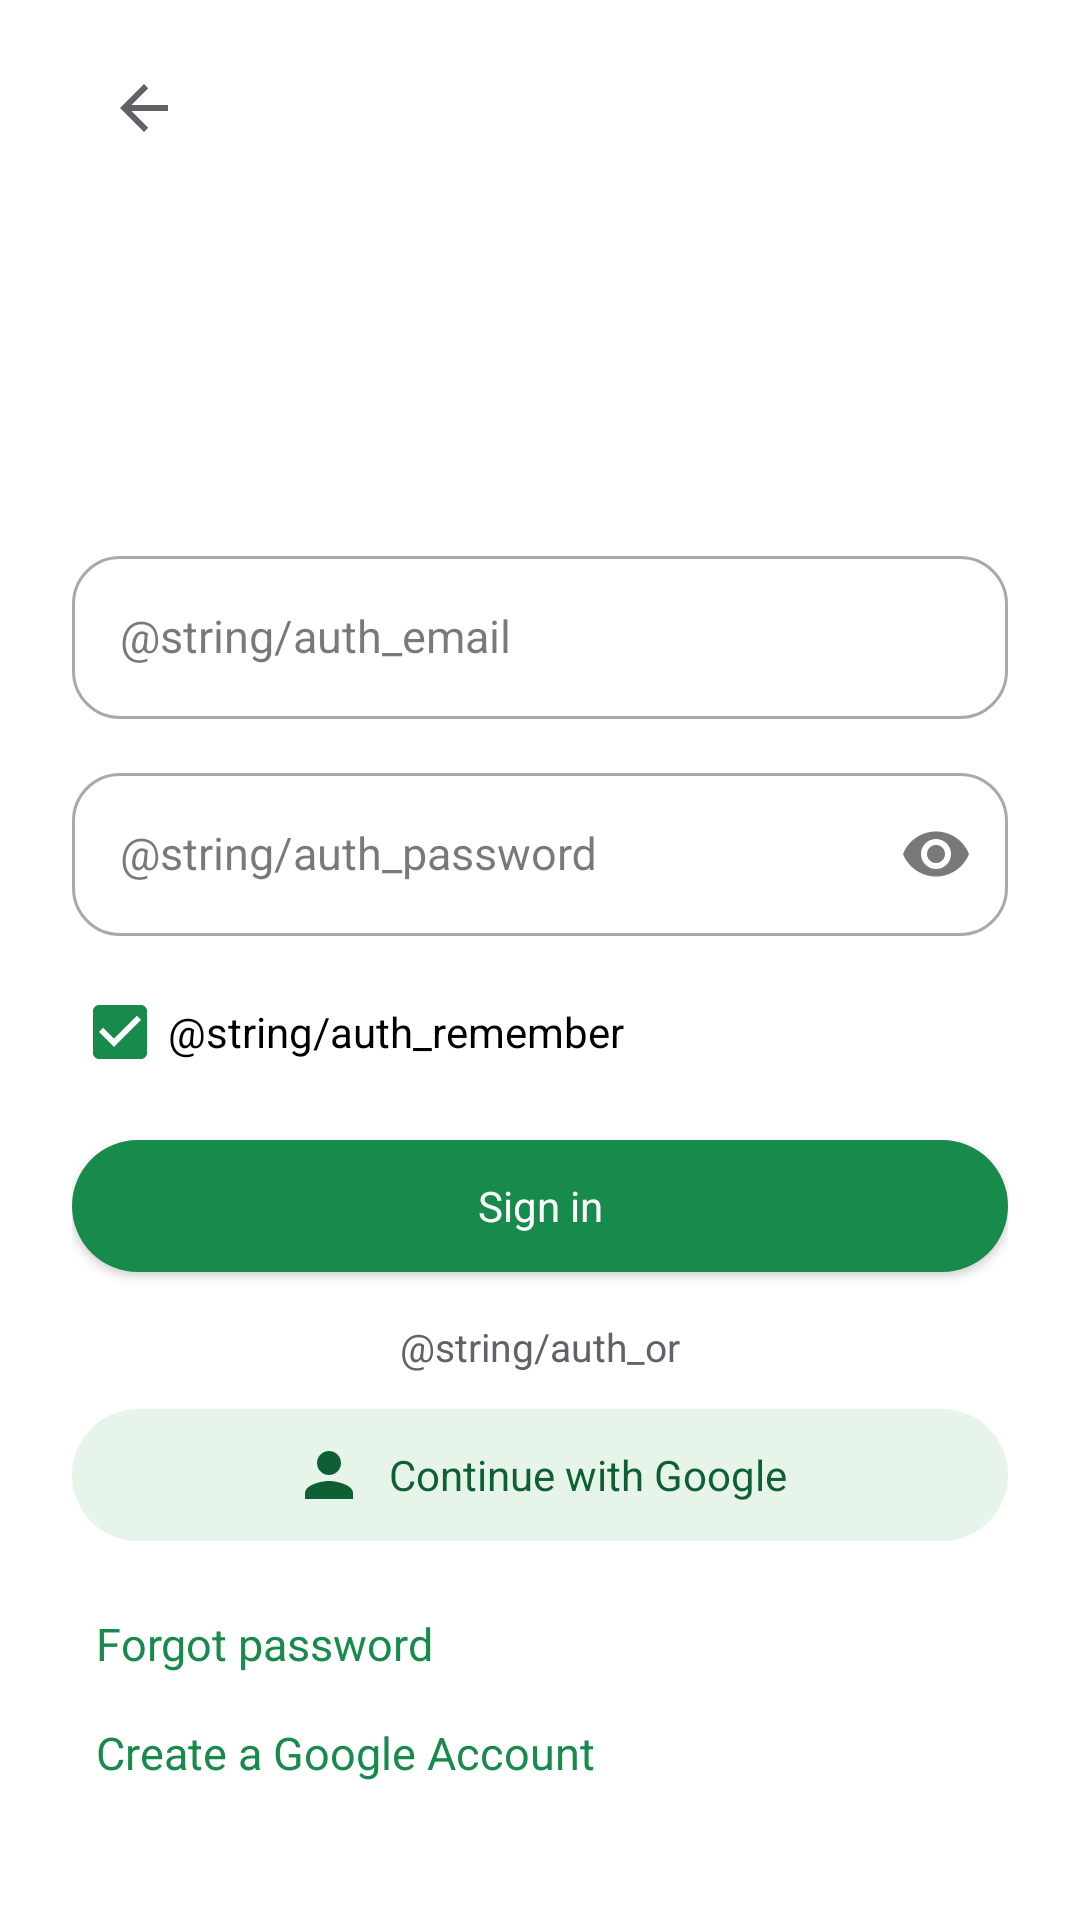

Named icons in this screenshot (1080 x 1920) and their bounding boxes, [x1,y1,x2,y2]:
Back: [120,84,168,132]
